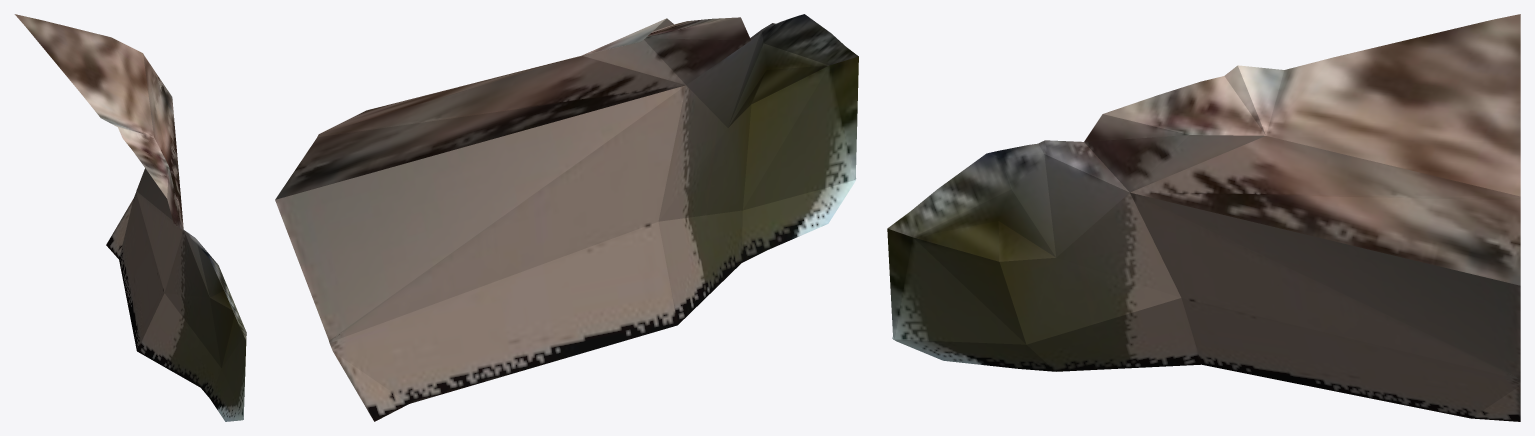
3 views of the same model, side by side, from view 1: azimuth 30°, elevation 25°; view 2: azimuth 150°, elevation 25°; view 3: azimuth 270°, elevation 25° (orthographic). The views are drawn at different scales.
Size of the model in its own units: 0.5361 by 0.8221 by 1.36.
Materials: 1 (1 with a texture image).
